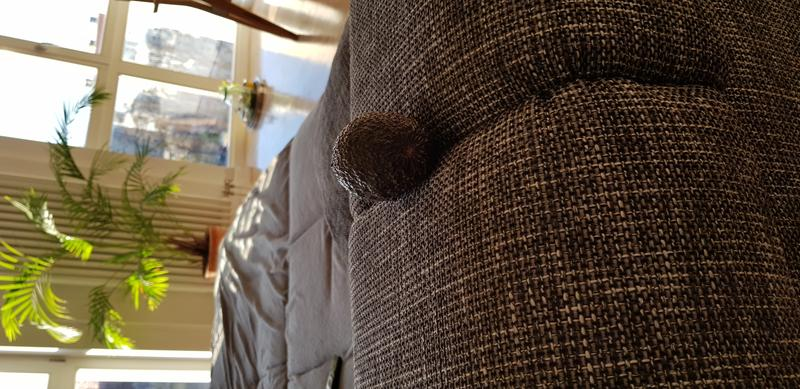Avocado: (319, 113, 451, 206)
